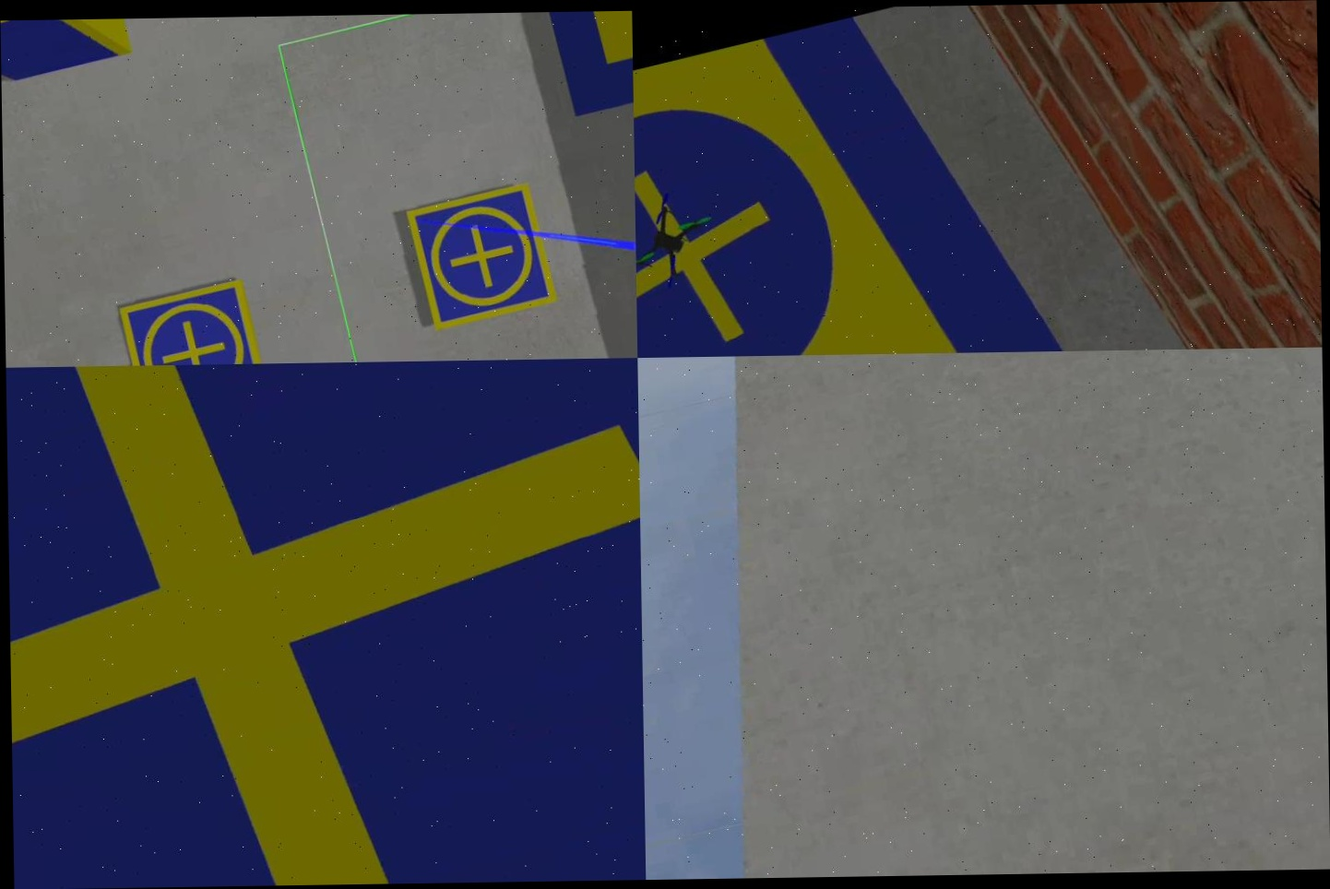large_base: (632, 3, 1153, 358)
small_base: (6, 358, 646, 889), (403, 178, 561, 333), (116, 279, 273, 366)
